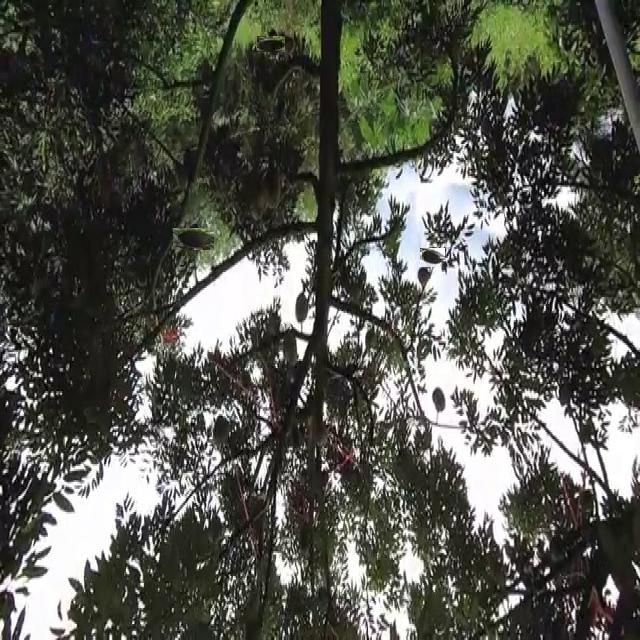durian: (244, 163, 268, 224), (178, 223, 209, 256), (262, 164, 282, 212), (280, 324, 298, 371), (293, 288, 311, 329), (430, 384, 448, 422), (260, 32, 283, 55), (421, 246, 443, 269)
